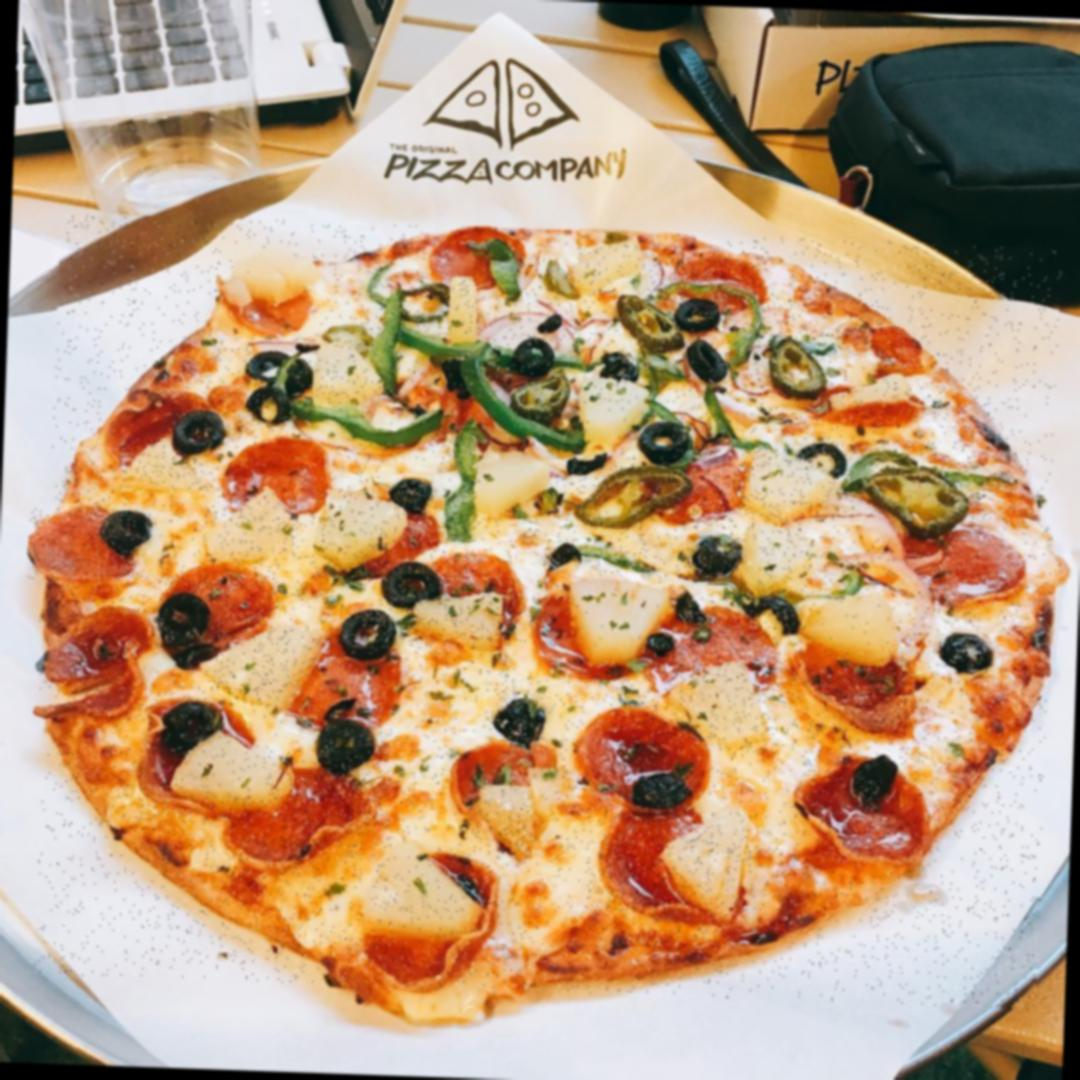Olives: (157, 592, 221, 671), (164, 700, 222, 755), (634, 420, 694, 470), (320, 727, 378, 776), (172, 409, 226, 458), (937, 630, 995, 675), (690, 534, 745, 581), (852, 755, 901, 806), (494, 696, 545, 744), (632, 771, 691, 810), (103, 510, 155, 554), (745, 594, 798, 636), (796, 439, 851, 479), (246, 384, 294, 428), (688, 338, 731, 385), (511, 336, 557, 376), (248, 348, 295, 386), (669, 298, 720, 332), (391, 478, 435, 514), (442, 359, 477, 404), (277, 362, 316, 397), (598, 353, 638, 387), (674, 591, 706, 622), (547, 545, 582, 572), (646, 634, 673, 656)
Pepperoni: (368, 844, 505, 994), (226, 762, 382, 879), (796, 757, 935, 867), (580, 712, 711, 812), (584, 808, 696, 922), (791, 639, 916, 738), (654, 608, 782, 703), (532, 586, 657, 681), (156, 562, 276, 654), (890, 520, 1026, 601), (284, 636, 403, 728), (34, 641, 147, 727), (426, 550, 526, 645), (221, 436, 332, 518), (100, 390, 210, 470), (448, 739, 559, 817), (27, 507, 142, 582), (37, 608, 157, 678), (654, 456, 748, 530), (217, 269, 313, 338), (348, 510, 439, 580), (428, 226, 530, 288), (674, 254, 768, 316), (810, 379, 924, 428)
Peppers: (578, 464, 694, 532), (864, 471, 970, 538), (294, 402, 448, 444), (362, 262, 403, 395), (446, 423, 482, 545), (772, 337, 826, 398), (660, 283, 768, 310), (480, 238, 524, 299), (574, 543, 656, 575), (400, 334, 486, 360), (734, 310, 756, 374)
Pineapple: (360, 835, 487, 936), (645, 659, 780, 752), (198, 622, 321, 710), (662, 810, 755, 926), (166, 736, 293, 816), (564, 574, 669, 670), (309, 492, 409, 574), (791, 596, 902, 667), (201, 488, 298, 566), (746, 448, 840, 523), (472, 448, 553, 519), (412, 592, 507, 650), (580, 379, 652, 450), (232, 247, 318, 306), (744, 526, 814, 596), (120, 437, 206, 493), (309, 340, 385, 400), (472, 785, 534, 858), (568, 237, 646, 294), (450, 277, 480, 346), (532, 768, 558, 847)
Pizza: (35, 213, 1062, 1009)
